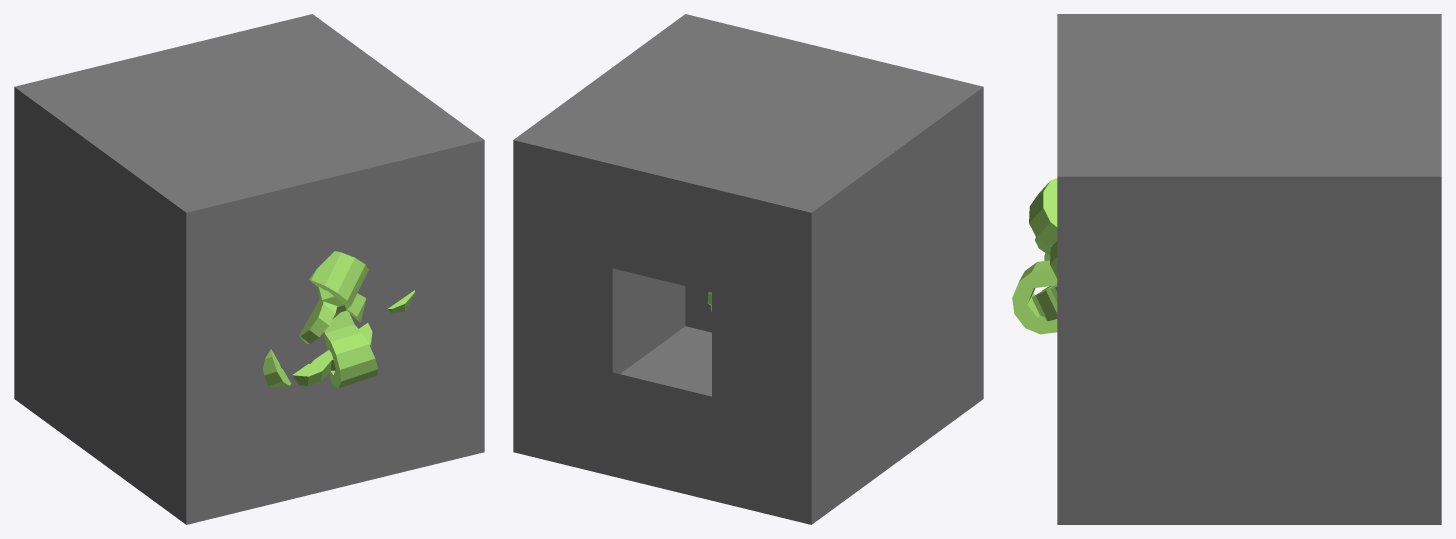
The model's file is porthole_v01.glb.
3 renders of one model, left to right at view 1: azimuth 30°, elevation 25°; view 2: azimuth 150°, elevation 25°; view 3: azimuth 270°, elevation 25°, orthographic. The views are drawn at different scales.
Parts seen in each view (by area): view 1: HoneyComb; view 2: HoneyComb; view 3: HoneyComb.
Boxes of the visible parts, x1,y1,x2,y2 form: HoneyComb: (14, 14, 484, 524); HoneyComb: (513, 14, 983, 524); HoneyComb: (1012, 14, 1441, 524).
Bounding box in the file's own units: 14 × 14 × 15.64.
